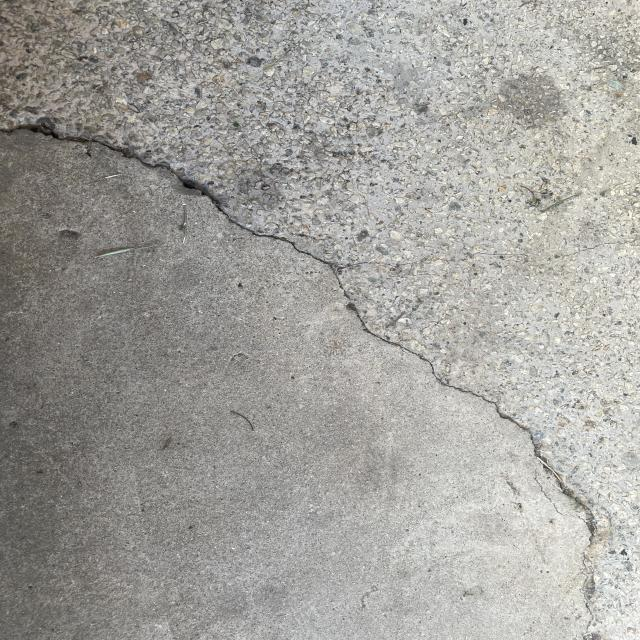Crack: (0, 104, 399, 368), (394, 366, 625, 635)
